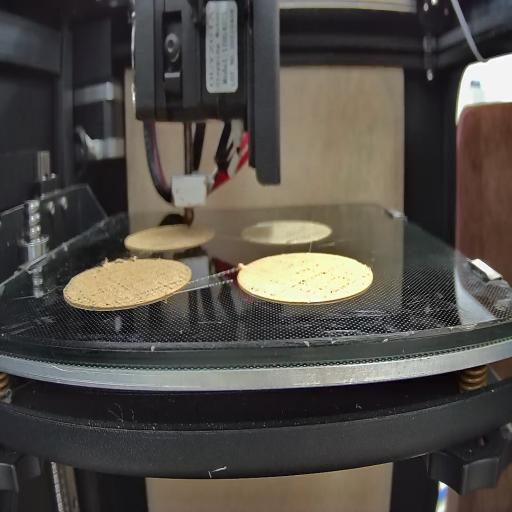under_extrusion: (291, 260, 359, 298), (74, 272, 128, 308), (151, 276, 180, 297), (250, 284, 278, 300)
